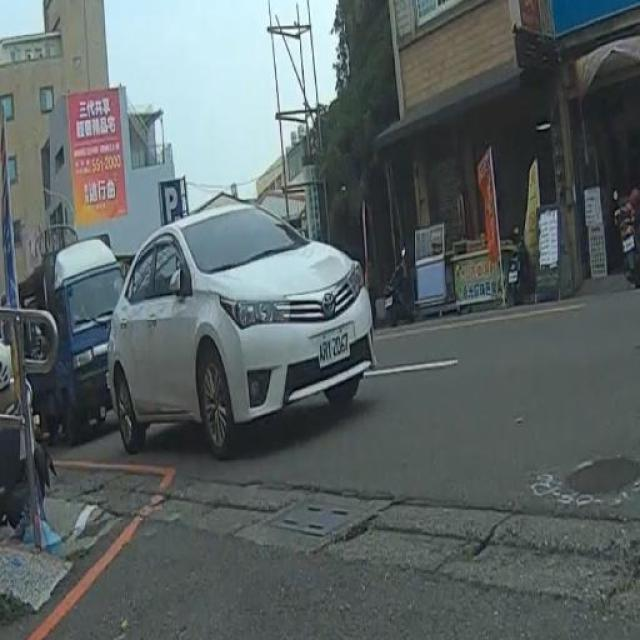illegalparking: (21, 204, 372, 456)
